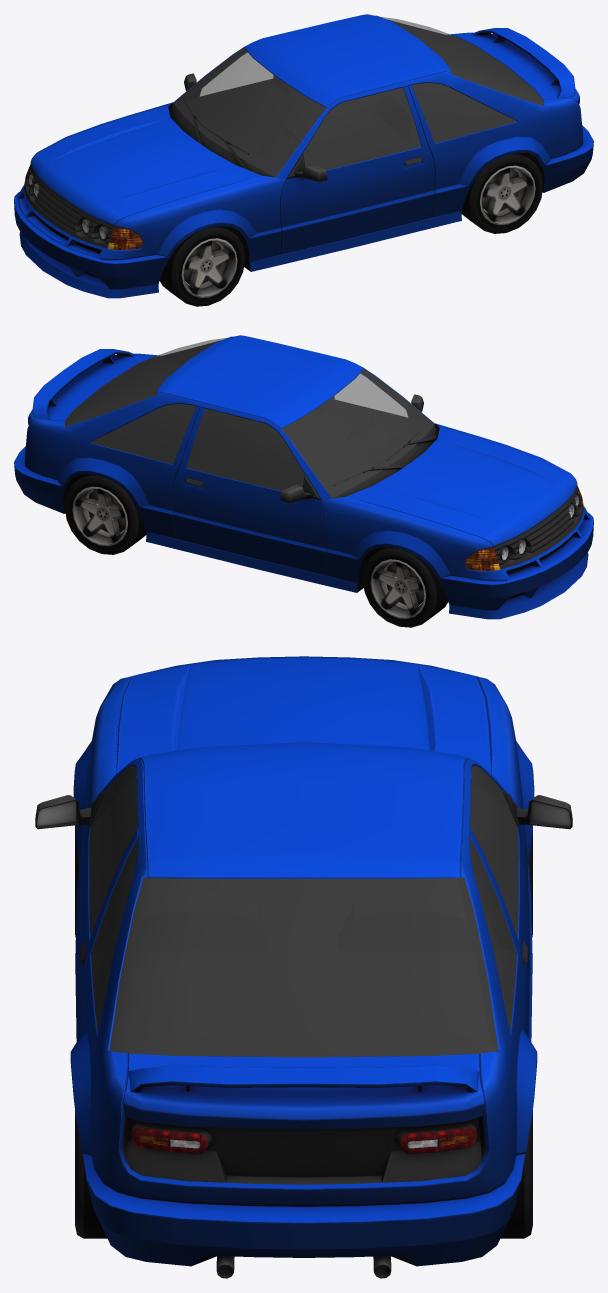
Rendered from coupe.glb.
3 renders of one model, top to bottom at view 1: azimuth 30°, elevation 25°; view 2: azimuth 150°, elevation 25°; view 3: azimuth 270°, elevation 25°, orthographic. The views are drawn at different scales.
Visible parts, largest first — view 1: coupe; view 2: coupe; view 3: coupe.
Part boxes in pixels (bbox=[...]): coupe: bbox=[14, 14, 593, 306]; coupe: bbox=[14, 335, 593, 627]; coupe: bbox=[35, 656, 572, 1278].
Bounding box in the file's own units: 4.5 × 1.36 × 2.
4 materials, 3 textured.
